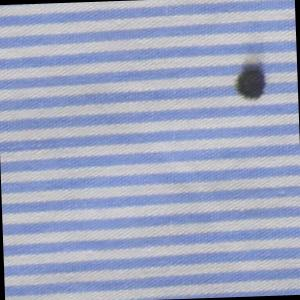Stain: (233, 52, 271, 107)
